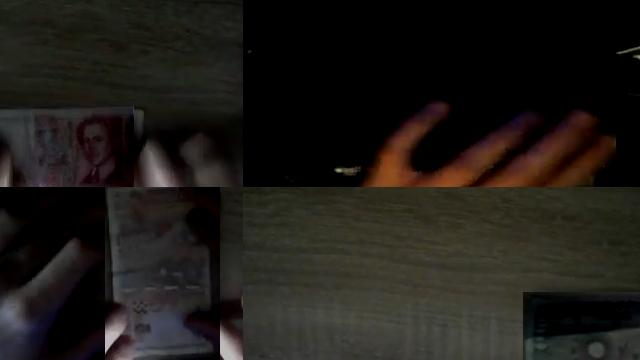10leva: (523, 296, 640, 360)
5leva: (105, 187, 220, 360), (0, 106, 134, 187)
